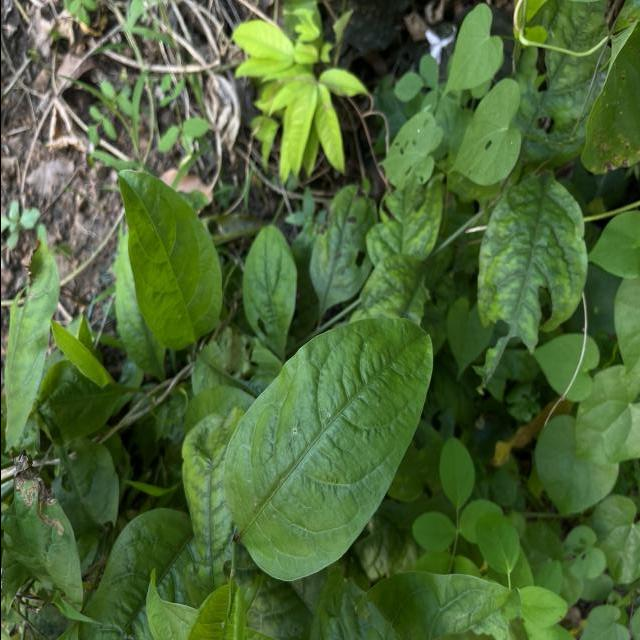Plumbago indica: (219, 310, 443, 584), (107, 160, 230, 362)
